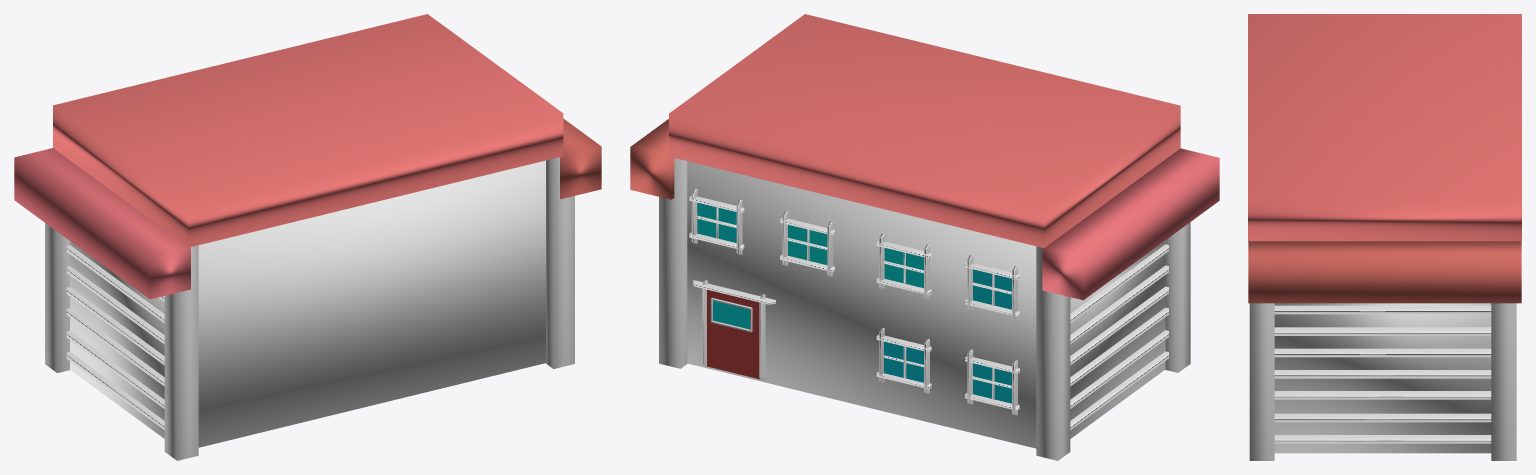
Rendered from PalletTownHouse.fbx.
3 views of the same model, side by side, from view 1: azimuth 30°, elevation 25°; view 2: azimuth 150°, elevation 25°; view 3: azimuth 270°, elevation 25° (orthographic).
Visible parts, largest first — view 1: Cube, Cube_018, Cube_017, Cube_047, Cube_046, Cube_045, Cube_016, Cube_060, Cube_061, Cube_062, Cube_063, Cube_058 (+1 smaller); view 2: Cube_018, Cube, Cube_017, Cube_045, Cube_044, Cube_047, Grid, Cube_016, Grid_001, Grid_006, Grid_005, Grid_004 (+9 smaller); view 3: Cube_018, Cube, Cube_016, Cube_044, Cube_046, Cube_049, Cube_051, Cube_054, Cube_050, Cube_052, Cube_053, Cube_055.
Part boxes in pixels (<box>): Cube: <box>70,160,545,447</box>; Cube_018: <box>53,14,563,247</box>; Cube_017: <box>14,148,190,299</box>; Cube_047: <box>164,245,198,460</box>; Cube_046: <box>545,157,574,368</box>; Cube_045: <box>45,223,69,373</box>; Cube_016: <box>560,118,601,199</box>; Cube_060: <box>66,287,164,365</box>; Cube_061: <box>66,308,164,386</box>; Cube_062: <box>66,330,164,408</box>; Cube_063: <box>66,351,164,429</box>; Cube_058: <box>66,245,164,323</box>; Cube_018: <box>669,14,1180,248</box>; Cube: <box>687,161,1165,448</box>; Cube_017: <box>1042,148,1219,300</box>; Cube_045: <box>1036,246,1070,460</box>; Cube_044: <box>659,158,687,368</box>; Cube_047: <box>1165,222,1190,372</box>; Grid: <box>707,289,760,379</box>; Cube_016: <box>630,119,674,199</box>; Grid_001: <box>884,341,923,382</box>; Grid_006: <box>697,202,736,242</box>; Grid_005: <box>788,224,827,264</box>; Grid_004: <box>884,248,923,288</box>; Cube_018: <box>1248,14,1521,241</box>; Cube: <box>1274,303,1491,453</box>; Cube_016: <box>1248,241,1521,303</box>; Cube_044: <box>1491,303,1516,460</box>; Cube_046: <box>1249,303,1274,460</box>; Cube_049: <box>1274,305,1491,314</box>; Cube_051: <box>1274,348,1491,357</box>; Cube_054: <box>1274,413,1491,422</box>; Cube_050: <box>1274,327,1491,335</box>; Cube_052: <box>1274,370,1491,378</box>; Cube_053: <box>1274,391,1491,399</box>; Cube_055: <box>1274,435,1491,443</box>.
Size of the model in its own units: 11.02 by 5.93 by 5.74.
